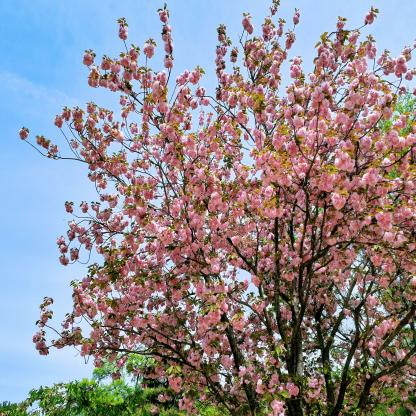YaeSakura: (19, 3, 416, 416)
